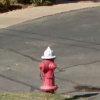Hydrant: (35, 42, 63, 93)
